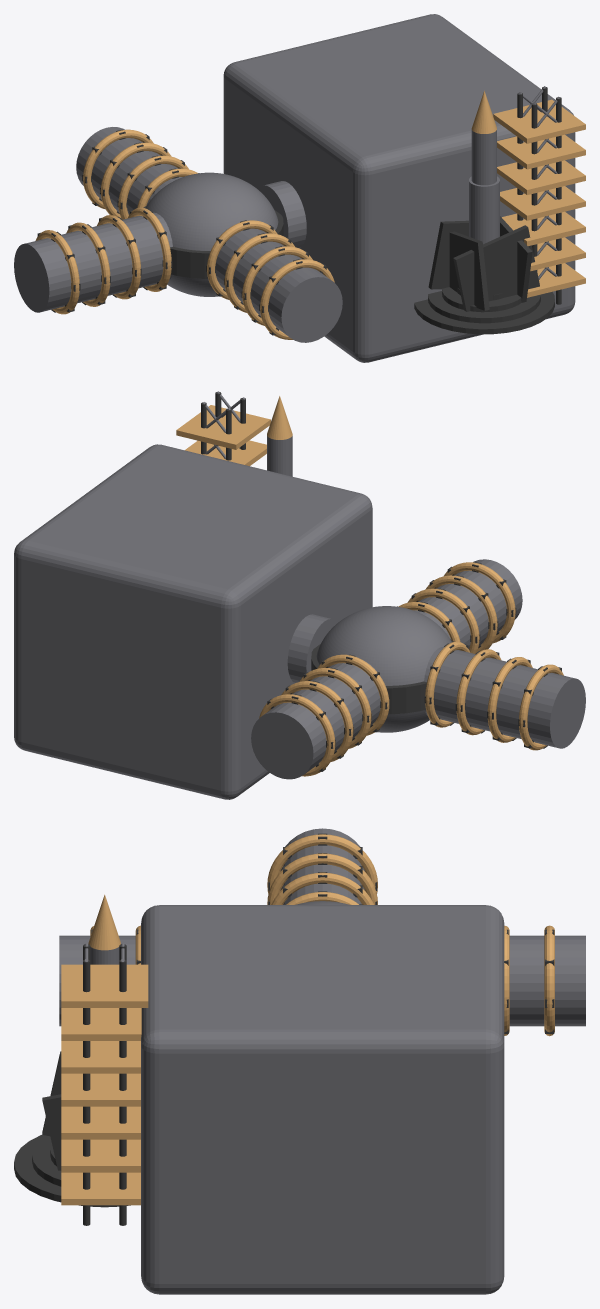
File: Unified_Station_Iteration12.glb
3 renders of one model, top to bottom at view 1: azimuth 30°, elevation 25°; view 2: azimuth 150°, elevation 25°; view 3: azimuth 270°, elevation 25°, orthographic. The views are drawn at different scales.
Parts seen in each view (by area): view 1: Cube.096, Cylinder.001, Sphere, Cylinder.003, Cube.101, Cylinder.002, Cylinder.005, Cube.108, Cylinder.009, Cube.107, Cube.106, Cylinder.004 (+26 smaller); view 2: Cube.096, Cylinder.001, Sphere, Cylinder.002, Cylinder.003, Cube.108, Cylinder.004, Cylinder, Torus.036, Torus.033, Torus.034, Torus.040 (+11 smaller); view 3: Cube.096, Cylinder.002, Cube.108, Cube.102, Cube.103, Cube.104, Cube.105, Cube.107, Cube.106, Cylinder.001, Torus.032, Torus.031 (+10 smaller).
Boxes of the visible parts, <box> form: Cube.096: <box>223,14,575,362</box>; Cylinder.001: <box>14,212,172,312</box>; Sphere: <box>145,172,278,296</box>; Cylinder.003: <box>215,225,342,342</box>; Cube.101: <box>453,225,539,311</box>; Cylinder.002: <box>76,127,182,214</box>; Cylinder.005: <box>414,291,554,334</box>; Cube.108: <box>493,99,585,143</box>; Cylinder.009: <box>469,176,499,244</box>; Cube.107: <box>497,134,585,169</box>; Cube.106: <box>497,160,585,194</box>; Cylinder.004: <box>258,181,306,248</box>; Cube.096: <box>14,444,372,799</box>; Cylinder.001: <box>424,646,585,748</box>; Sphere: <box>316,606,451,732</box>; Cylinder.002: <box>251,660,380,779</box>; Cylinder.003: <box>413,559,522,648</box>; Cube.108: <box>176,405,270,449</box>; Cylinder.004: <box>287,614,337,683</box>; Cylinder: <box>311,639,453,714</box>; Torus.036: <box>259,694,335,776</box>; Torus.033: <box>317,654,389,735</box>; Torus.034: <box>299,668,371,748</box>; Torus.040: <box>444,562,515,643</box>; Cube.096: <box>141,905,504,1294</box>; Cylinder.002: <box>509,935,585,1026</box>; Cube.108: <box>61,964,148,1007</box>; Cube.102: <box>61,1172,140,1205</box>; Cube.103: <box>61,1139,140,1172</box>; Cube.104: <box>61,1106,140,1139</box>; Cube.105: <box>61,1073,140,1106</box>; Cube.107: <box>61,1008,141,1040</box>; Cube.106: <box>61,1041,140,1073</box>; Cylinder.001: <box>280,828,364,904</box>; Torus.032: <box>267,834,377,893</box>; Torus.031: <box>267,853,377,904</box>.
Size of the model in its own units: 78 by 41 by 63.
